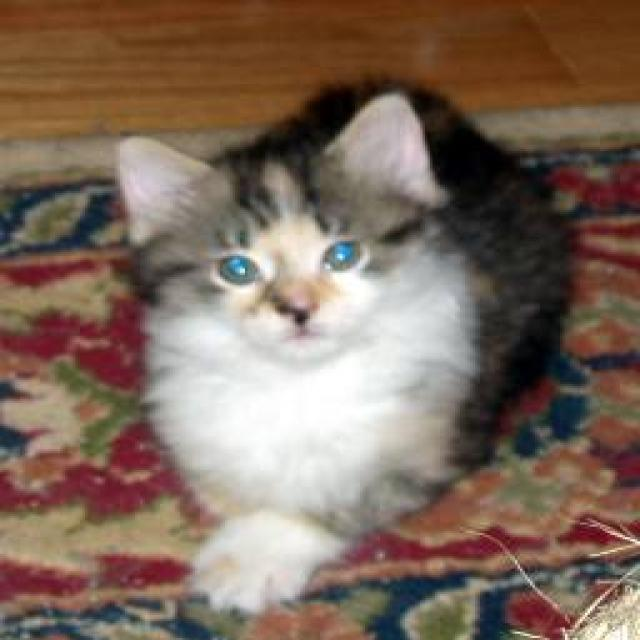cat: (112, 71, 572, 615)
